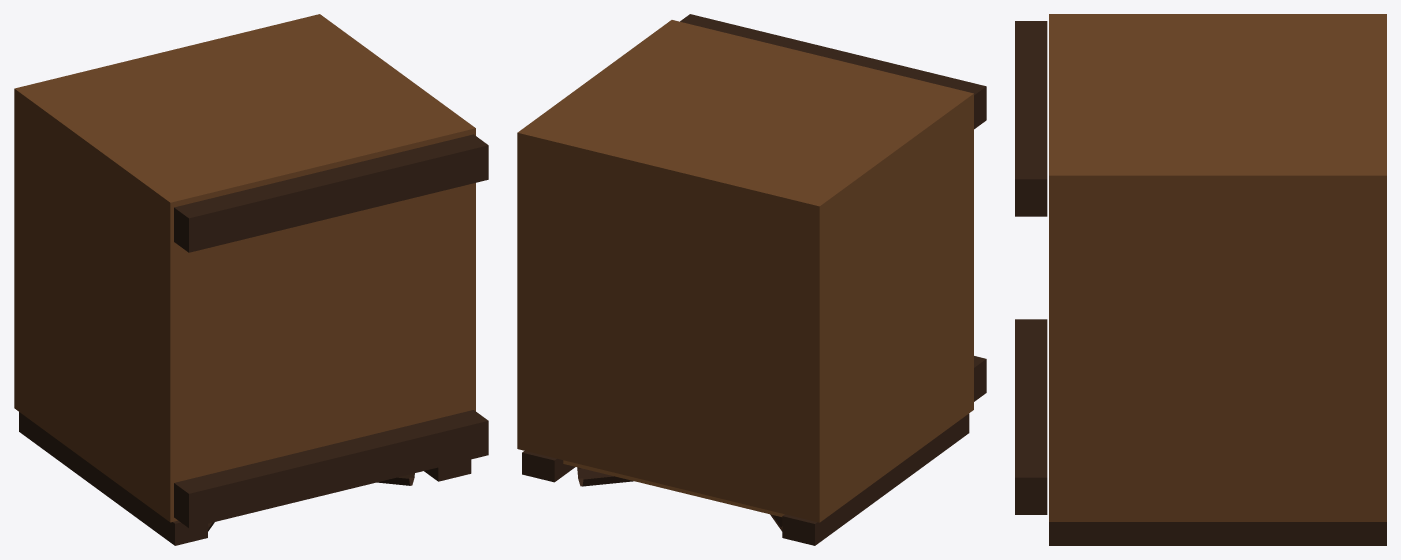
File: crate.obj
3 renders of one model, left to right at view 1: azimuth 30°, elevation 25°; view 2: azimuth 150°, elevation 25°; view 3: azimuth 270°, elevation 25°, orthographic. The views are drawn at different scales.
Visible parts, largest first — view 1: CrateCore, TopRail-1.12, TopRail1.12, FrontPost-1.12, FrontPost1.12; view 2: CrateCore, FrontPost-1.12, TopRail1.12, FrontPost1.12, FrontPlank0, FrontBraceB; view 3: CrateCore, FrontPost1.12, TopRail-1.12, TopRail1.12.
Part boxes in pixels (bbox=[...]): CrateCore: bbox=[14, 14, 475, 522]; TopRail-1.12: bbox=[174, 410, 488, 528]; TopRail1.12: bbox=[174, 134, 488, 252]; FrontPost-1.12: bbox=[19, 412, 207, 545]; FrontPost1.12: bbox=[424, 459, 471, 481]; CrateCore: bbox=[517, 20, 973, 522]; FrontPost-1.12: bbox=[782, 413, 969, 545]; TopRail1.12: bbox=[680, 14, 986, 129]; FrontPost1.12: bbox=[522, 451, 575, 482]; FrontPlank0: bbox=[563, 460, 784, 516]; FrontBraceB: bbox=[577, 467, 633, 486]; CrateCore: bbox=[1049, 14, 1386, 521]; FrontPost1.12: bbox=[1049, 522, 1386, 545]; TopRail-1.12: bbox=[1015, 319, 1047, 514]; TopRail1.12: bbox=[1015, 21, 1047, 216].
Bounding box in the file's own units: 2.6 × 2.93 × 2.53.
